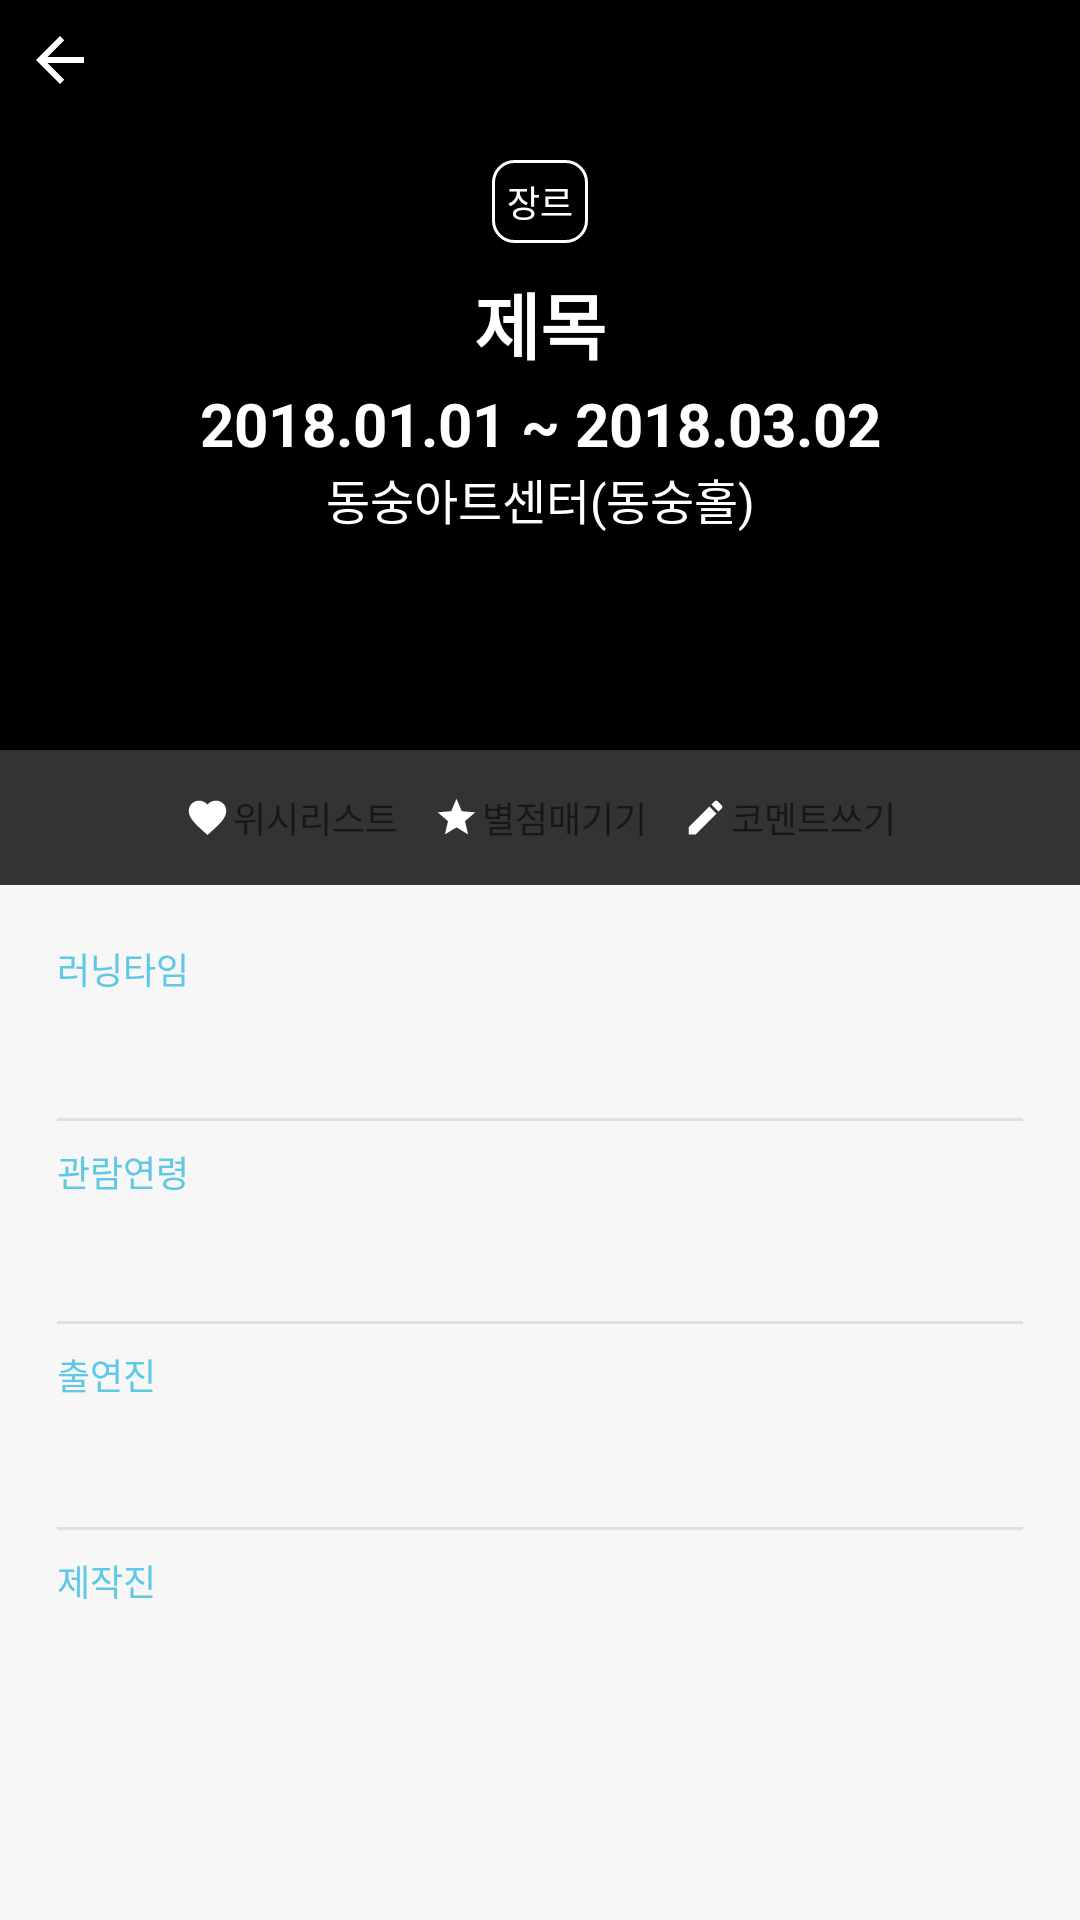

Icon bounding boxes for this 1080w x 1920h phone screenshot, format [x1,y1,x2,y2]:
arrow back: [36,36,84,84]
